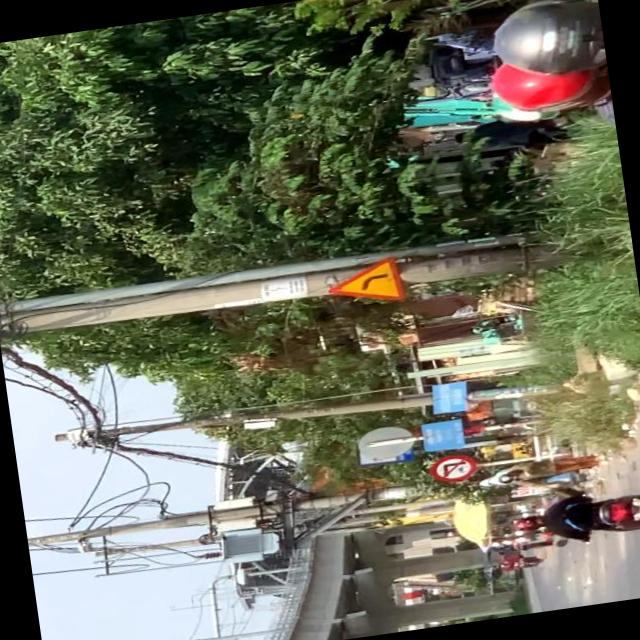W-201a: (324, 257, 406, 311)
